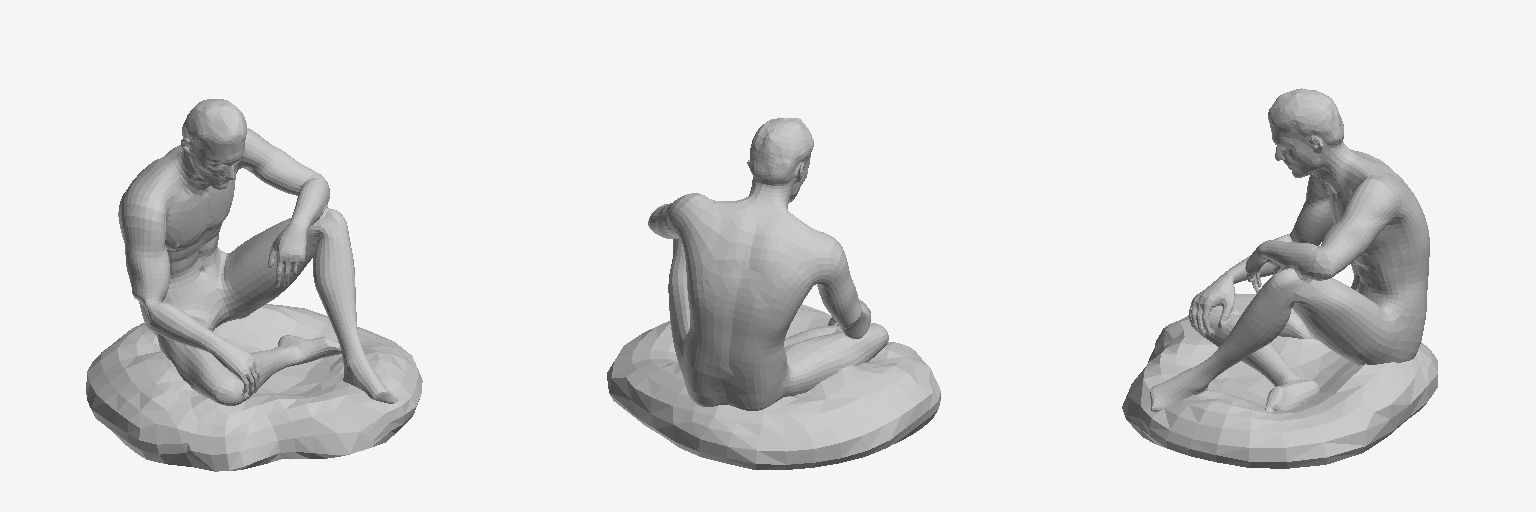
Rendered from alts_Broken statue 04_lod_03.obj.
The picture shows the model from 3 angles: view 1: azimuth 30°, elevation 25°; view 2: azimuth 150°, elevation 25°; view 3: azimuth 270°, elevation 25°; orthographic projection.
Visible parts, largest first — view 1: mesh; view 2: mesh; view 3: mesh.
Boxes of the visible parts, <box> form: mesh: <box>86,99,422,471</box>; mesh: <box>607,118,940,469</box>; mesh: <box>1122,88,1437,468</box>.
Bounding box in the file's own units: 101 × 99.94 × 95.32.